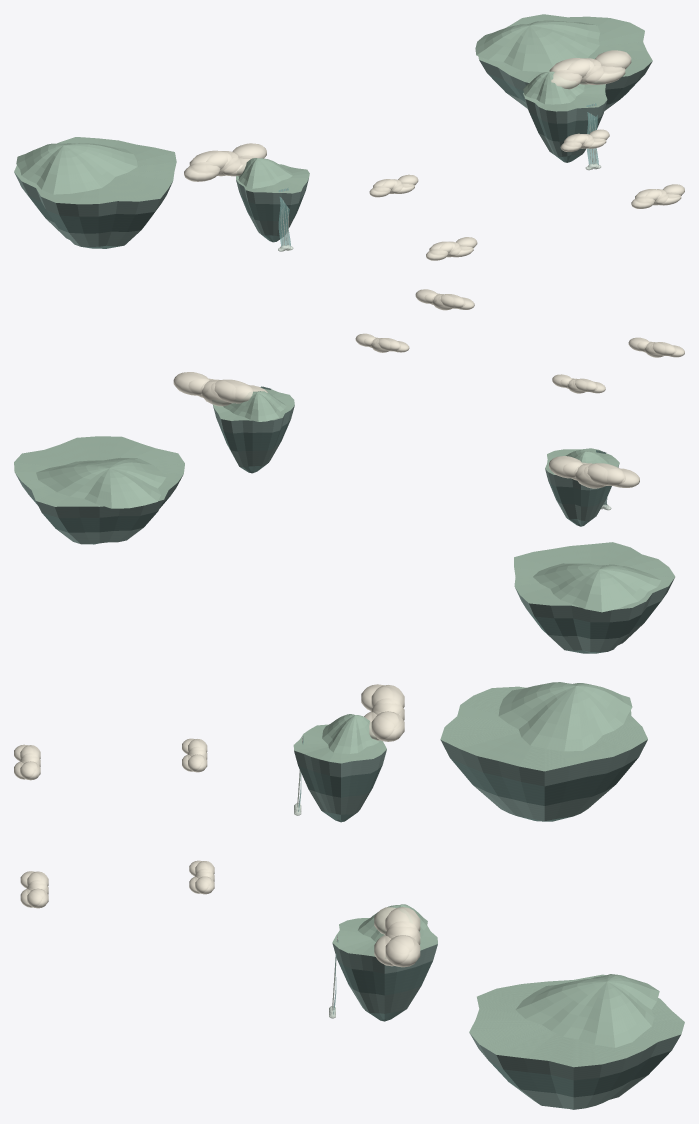
File: environment.glb
3 renders of one model, top to bottom at view 1: azimuth 30°, elevation 25°; view 2: azimuth 150°, elevation 25°; view 3: azimuth 270°, elevation 25°, orthographic. The views are drawn at different scales.
Parts seen in each view (by area): view 1: environment_Muted moss ledges, environment_Porcelain cloud banks, environment_Distant cool sandstone, environment_Distant stratified deep rock, environment_Turquoise waterfall ribbons, environment_Pale waterfall foam; view 2: environment_Muted moss ledges, environment_Distant cool sandstone, environment_Porcelain cloud banks, environment_Distant stratified deep rock; view 3: environment_Muted moss ledges, environment_Distant cool sandstone, environment_Distant stratified deep rock, environment_Porcelain cloud banks.
Part boxes in pixels (x1,y1,x2,y2): environment_Muted moss ledges: (14, 14, 652, 204); environment_Porcelain cloud banks: (184, 50, 684, 260); environment_Distant cool sandstone: (14, 60, 652, 246); environment_Distant stratified deep rock: (24, 73, 643, 248); environment_Turquoise waterfall ribbons: (278, 103, 598, 246); environment_Pale waterfall foam: (278, 103, 601, 251); environment_Muted moss ledges: (14, 387, 675, 612); environment_Distant cool sandstone: (15, 405, 674, 652); environment_Porcelain cloud banks: (173, 289, 684, 488); environment_Distant stratified deep rock: (30, 420, 661, 653); environment_Muted moss ledges: (293, 682, 684, 1067); environment_Distant cool sandstone: (294, 739, 680, 1109); environment_Distant stratified deep rock: (298, 757, 670, 1108); environment_Porcelain cloud banks: (14, 684, 420, 967).
Size of the model in its own units: 61.3 by 12.7 by 46.15.
6 materials, 6 textured.
